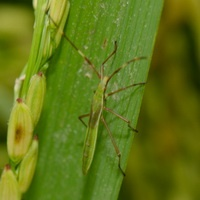insect: (37, 0, 161, 177), (63, 33, 150, 174)
